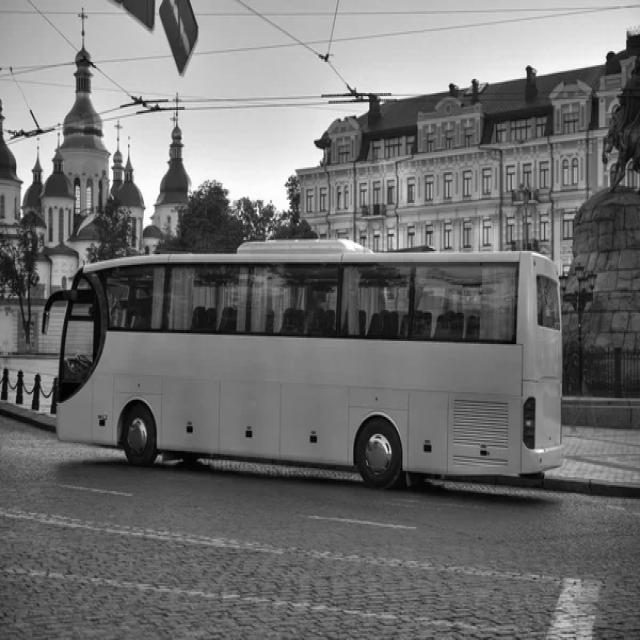Bus: (47, 240, 563, 488)
